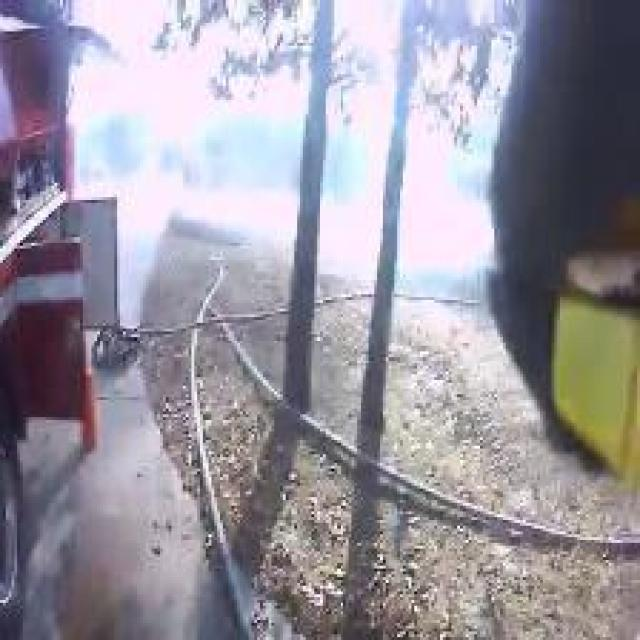other: (531, 291, 634, 434)
